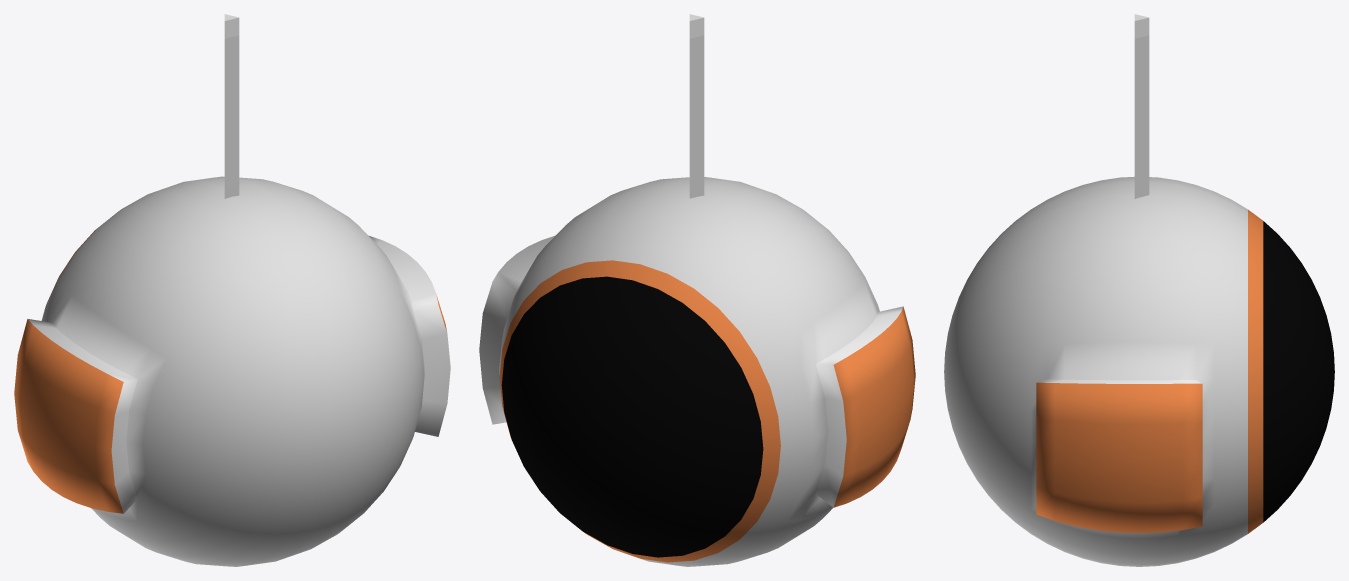
File: Volta.fbx
3 renders of one model, left to right at view 1: azimuth 30°, elevation 25°; view 2: azimuth 150°, elevation 25°; view 3: azimuth 270°, elevation 25°, orthographic.
Parts seen in each view (by area): view 1: VOX; view 2: VOX; view 3: VOX.
Part boxes in pixels (left/top/right/bottom): VOX: left=14, top=14, right=450, bottom=566; VOX: left=479, top=14, right=915, bottom=566; VOX: left=944, top=14, right=1334, bottom=566.
Size of the model in its own units: 227 by 300 by 200.
